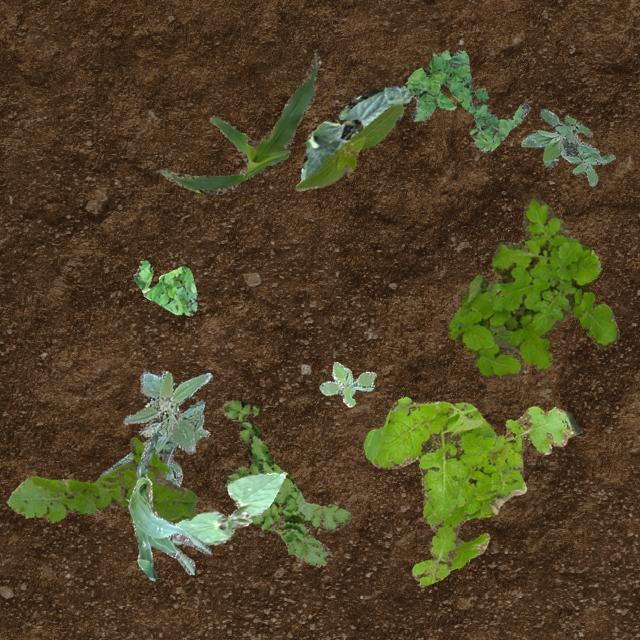crop: (158, 48, 320, 194), (128, 432, 210, 580), (300, 86, 410, 180), (294, 104, 402, 190), (170, 472, 284, 544)
weed: (362, 396, 578, 586), (448, 196, 618, 378), (220, 400, 350, 566), (5, 436, 196, 522), (402, 48, 530, 152), (98, 398, 208, 486), (122, 371, 212, 454), (520, 108, 614, 186), (130, 260, 196, 314), (318, 360, 374, 406)
